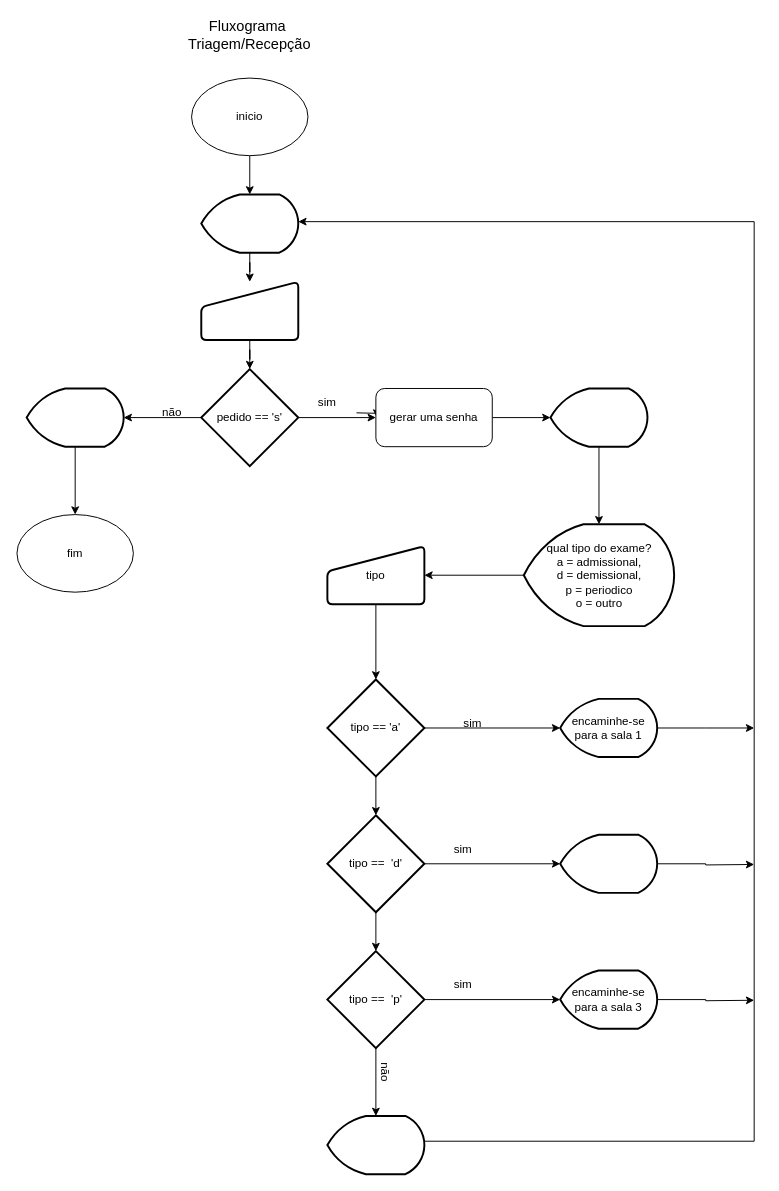
This 779x1191 diagram has some shape labels left out. The shapes that lost their labels are listed below. From the top down, each one's centre as x and y in pixels, then its label:
(249,223): possui pedido de exame, s/n
(249,310): pedido
(74,417): volte para a sua empresa e solicite
(598,417): entregar/mostrar a sanha ao paciente
(608,863): encaminhe-se para a sala 2
(375,1145): encaminhe-se para a sala 4
